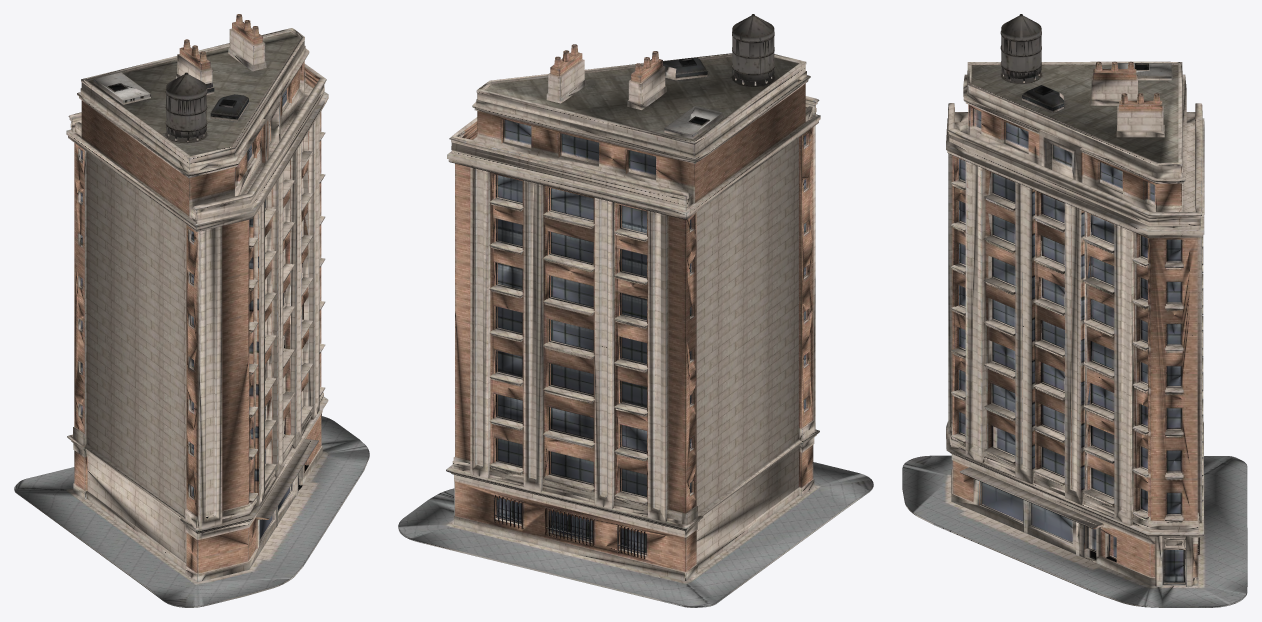
The model's file is bld22_09.glb.
3 views of the same model, side by side, from view 1: azimuth 30°, elevation 25°; view 2: azimuth 150°, elevation 25°; view 3: azimuth 270°, elevation 25° (orthographic). The views are drawn at different scales.
Parts seen in each view (by area): view 1: bld22_09; view 2: bld22_09; view 3: bld22_09.
Boxes of the visible parts, box(x1,y1,x2,y2) form: bld22_09: box(14, 14, 369, 607); bld22_09: box(398, 14, 873, 607); bld22_09: box(902, 14, 1247, 607).
Size of the model in its own units: 43.95 by 64.61 by 42.53.
Materials: 1 (1 with a texture image).
